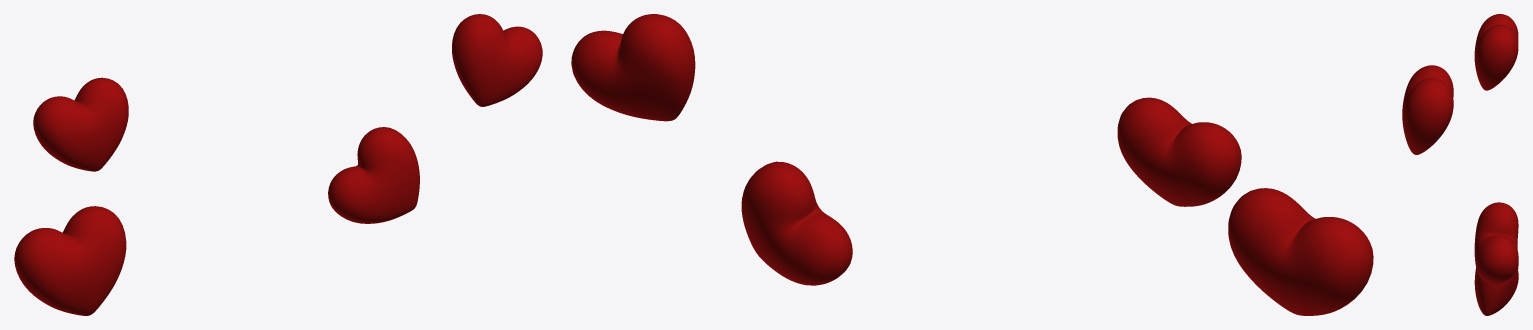
The model's file is section_1.glb.
3 renders of one model, left to right at view 1: azimuth 30°, elevation 25°; view 2: azimuth 150°, elevation 25°; view 3: azimuth 270°, elevation 25°, orthographic. The views are drawn at different scales.
Visible parts, largest first — view 1: LogoPart_1, LogoPart_3, LogoPart_2, LogoPart_4; view 2: LogoPart_1, LogoPart_4, LogoPart_2, LogoPart_3; view 3: LogoPart_1, LogoPart_4, LogoPart_2, LogoPart_3.
Part boxes in pixels (x1,y1,x2,y2): LogoPart_1: (14,206,126,315); LogoPart_3: (328,127,419,223); LogoPart_2: (33,77,128,171); LogoPart_4: (452,14,542,106); LogoPart_1: (1228,188,1373,315); LogoPart_4: (571,14,695,121); LogoPart_2: (1117,97,1241,206); LogoPart_3: (741,161,852,285); LogoPart_1: (1402,65,1453,154); LogoPart_4: (1474,202,1518,283); LogoPart_2: (1474,14,1518,90); LogoPart_3: (1474,260,1518,315).
Bounding box in the file's own units: 4.63 × 1.61 × 0.991.
